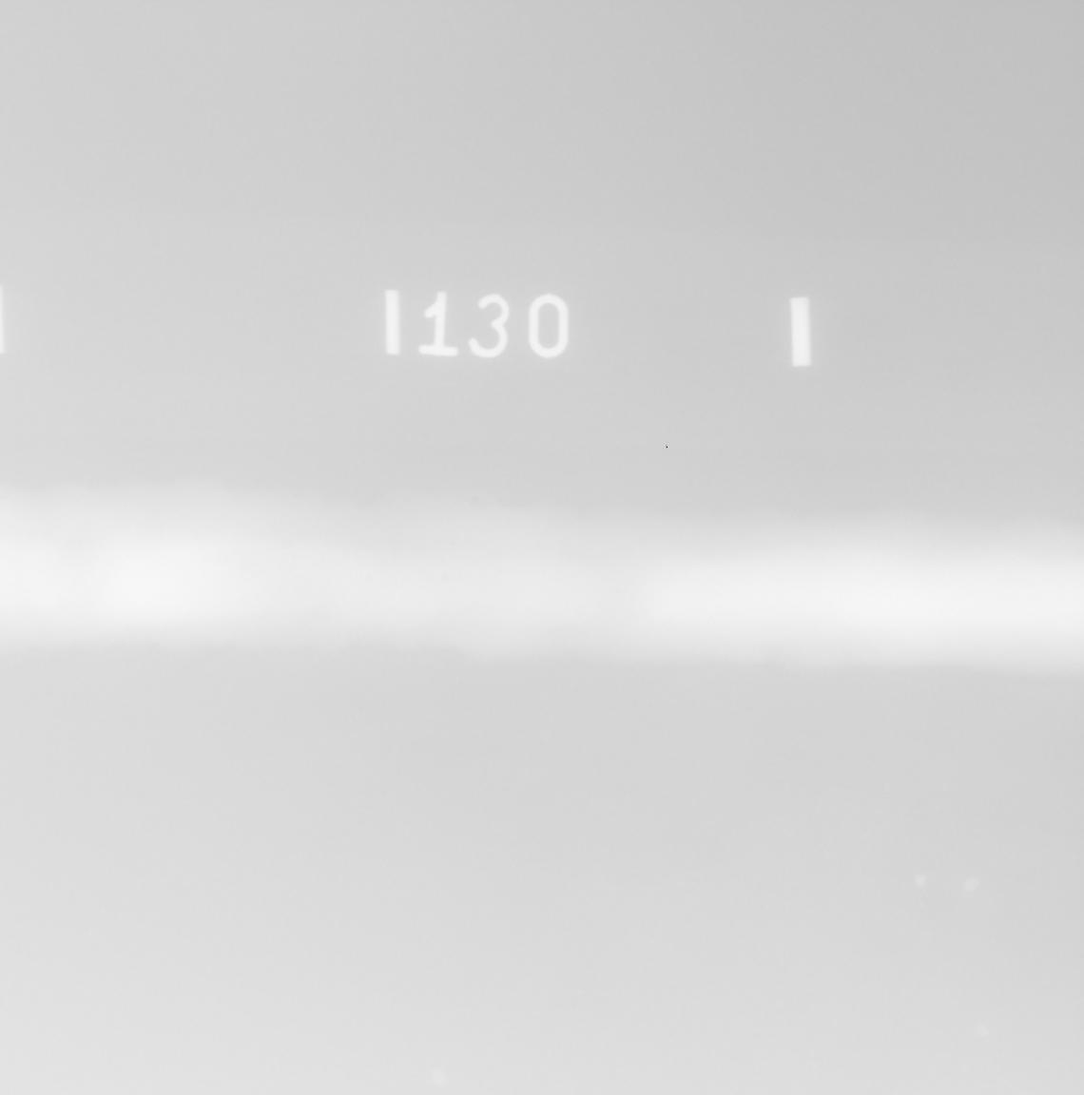Pore/Porosity: (470, 497, 481, 508), (364, 575, 374, 583), (442, 576, 449, 583), (450, 540, 455, 546), (616, 588, 621, 593)
